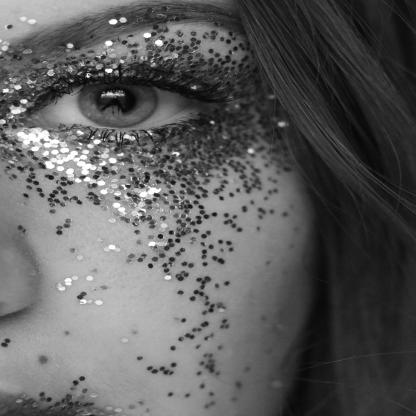Eye: (15, 64, 232, 148)
Nose: (0, 213, 42, 319)
